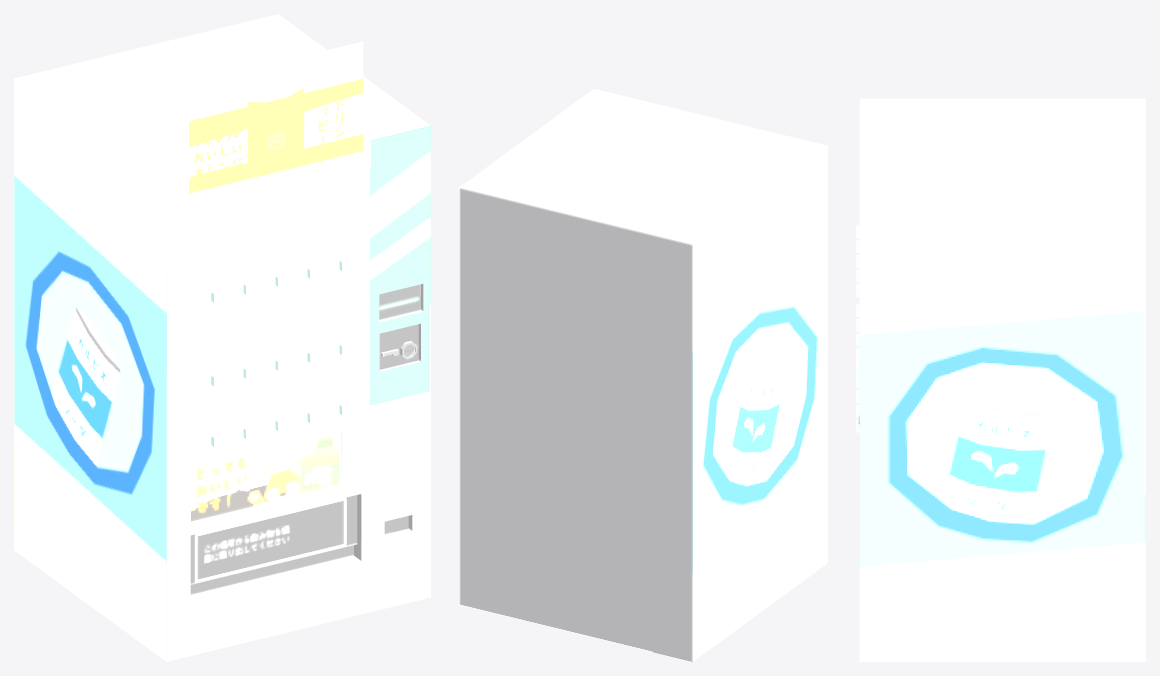
Rendered from original.glb.
3 views of the same model, side by side, from view 1: azimuth 30°, elevation 25°; view 2: azimuth 150°, elevation 25°; view 3: azimuth 270°, elevation 25° (orthographic). The views are drawn at different scales.
Parts seen in each view (by area): view 1: Cube, Plane, Plane.002, Cube.001; view 2: Cube; view 3: Cube, Cube.001.
Part boxes in pixels (x1,y1,x2,y2): Cube: [14, 14, 430, 661]; Plane: [193, 168, 367, 439]; Plane.002: [189, 41, 363, 193]; Cube.001: [193, 253, 368, 448]; Cube: [459, 88, 827, 661]; Cube: [858, 98, 1145, 661]; Cube.001: [856, 225, 859, 432].
Size of the model in its own units: 2 by 4.14 by 2.02.
